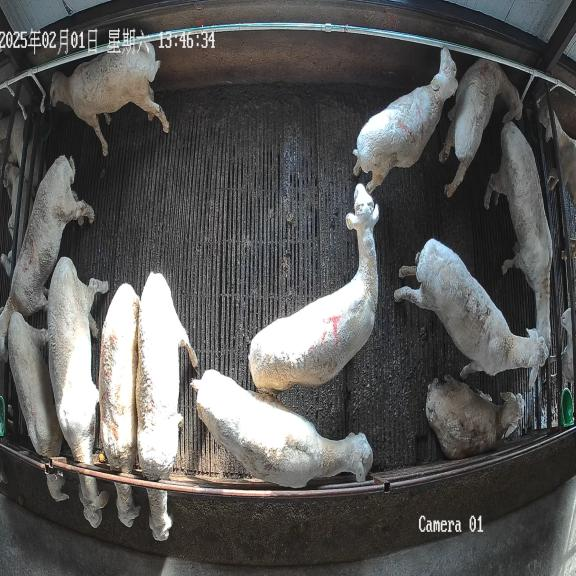drinking: (439, 58, 522, 197)
eating: (47, 257, 109, 528), (136, 272, 197, 541), (8, 312, 68, 501), (99, 283, 140, 527)
lying: (426, 375, 523, 459)
stand: (249, 184, 379, 391), (394, 239, 548, 388), (191, 369, 373, 488), (0, 156, 94, 361), (484, 121, 552, 346), (353, 48, 458, 193), (50, 43, 169, 156)
